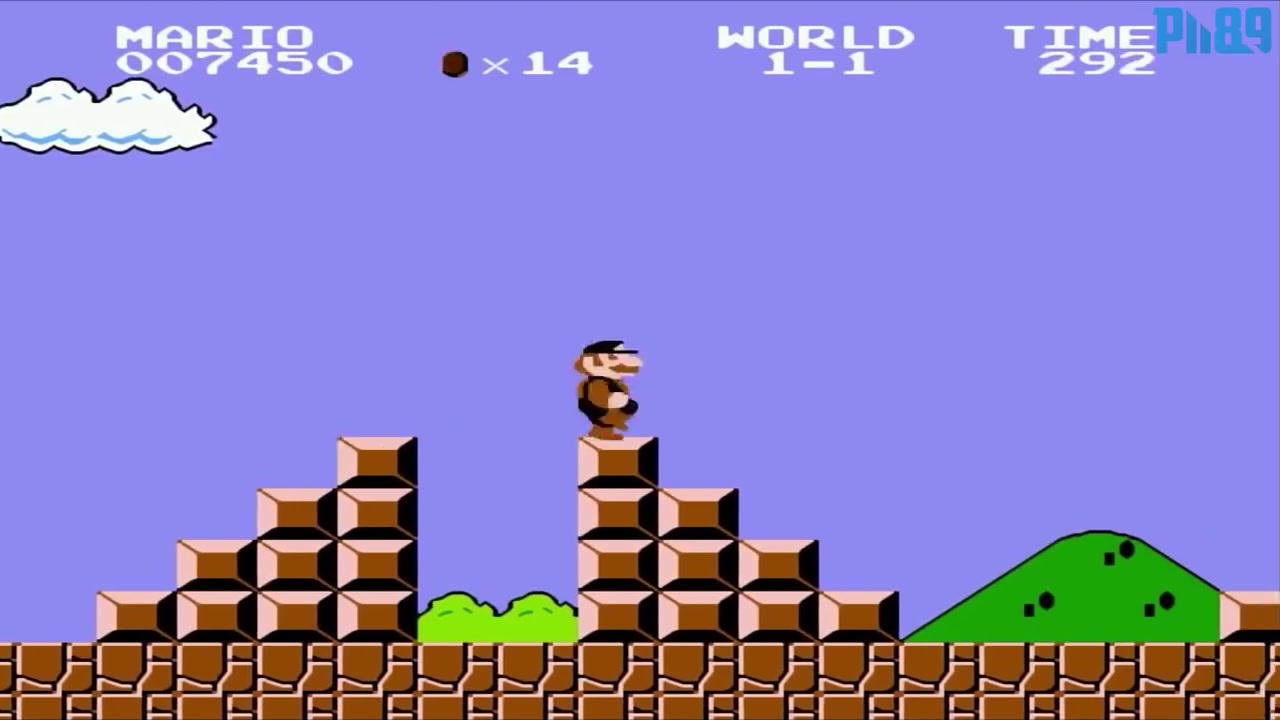mario: (564, 329, 644, 445)
